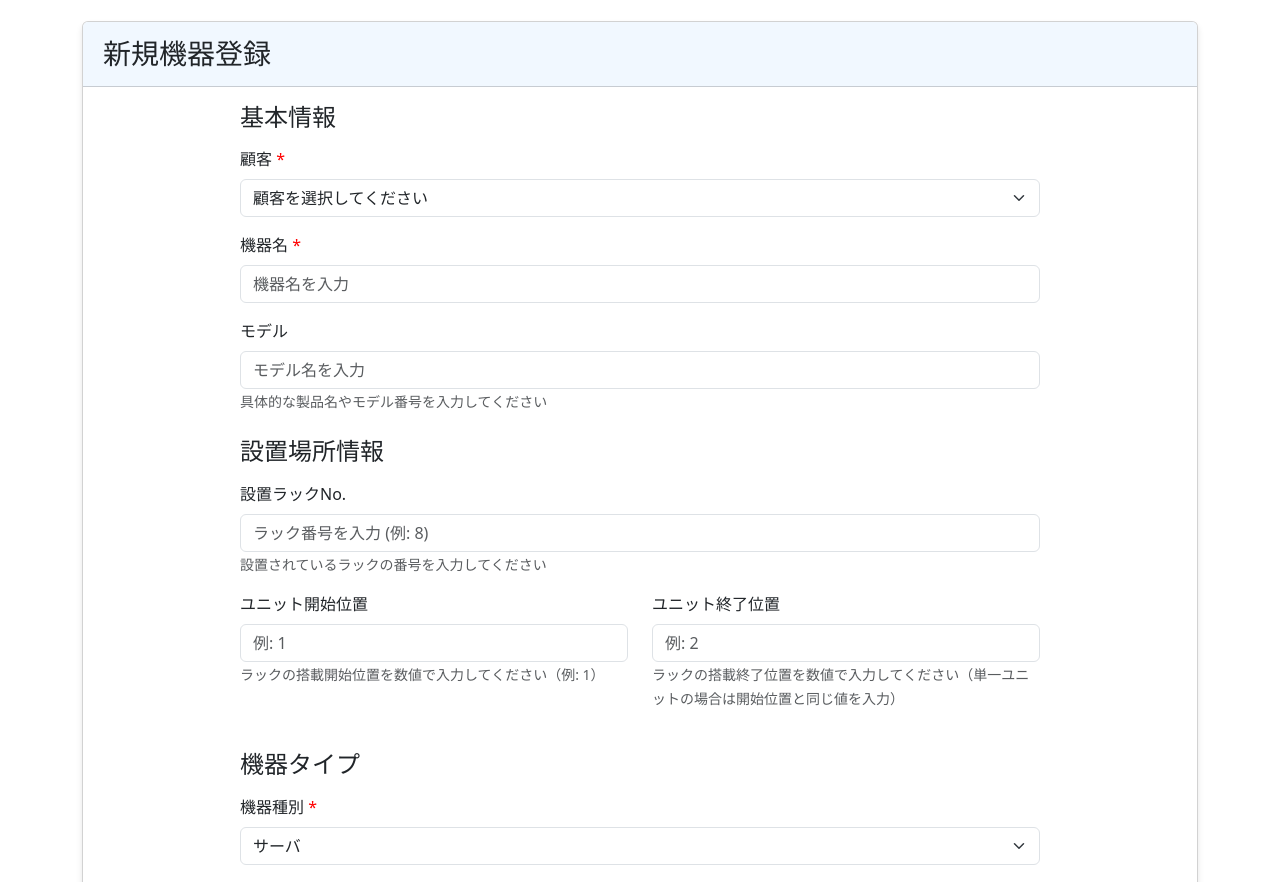
DeviceForm Component › displays API error message when submission fails
This screenshot has width=1280, height=882.
Step 1. Type "テストサーバー" into the field labelled "機器名" → (640, 284), box [240,265,1040,303]
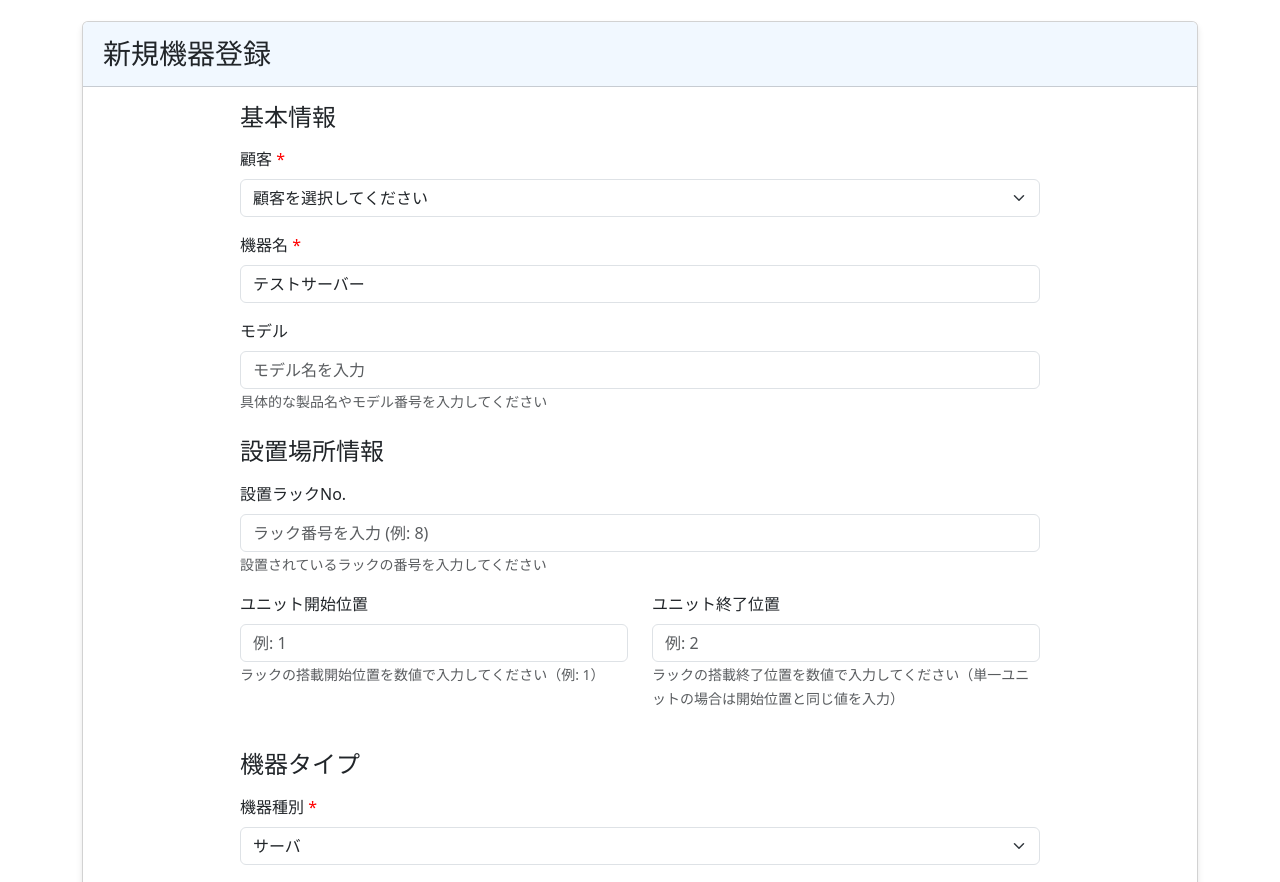
Step 2. Select "テスト株式会社A" in the dropdown labelled "顧客" → (640, 198), box [240,179,1040,217]
(page scrolled)
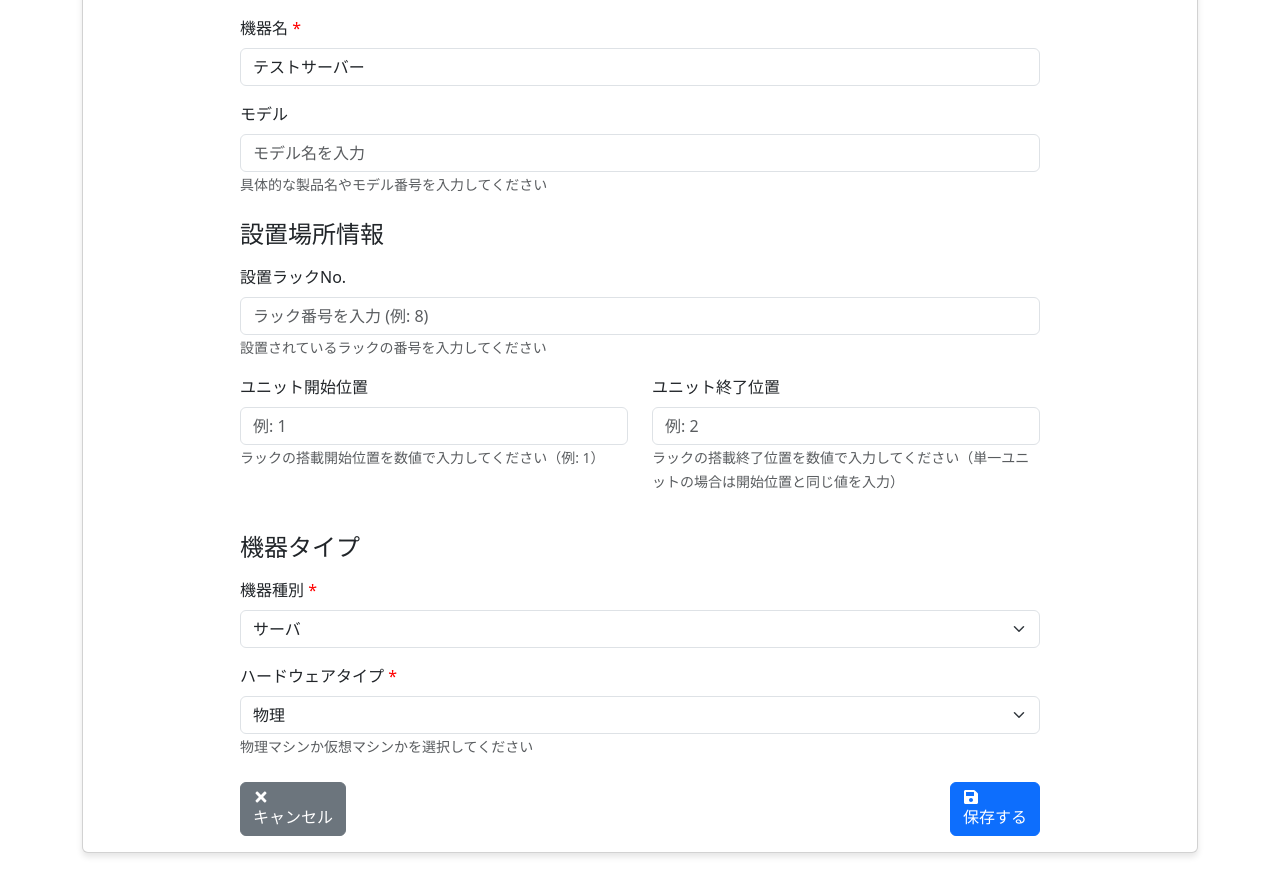
Step 3. Click the button "保存する" → (995, 809), box [950,782,1040,836]
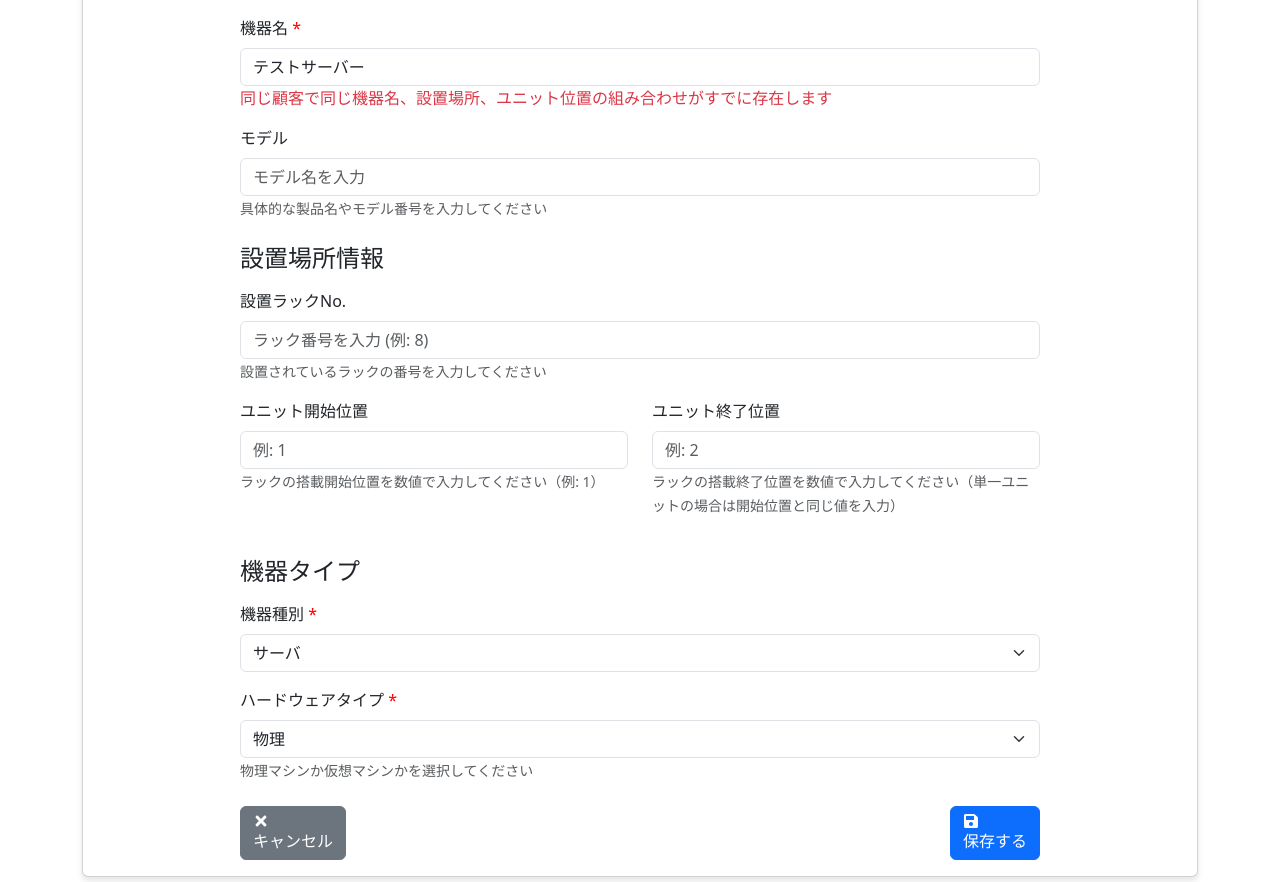
Result: the text "同じ顧客で同じ機器名、設置場所、ユニット位置の組み合わせがすでに存在します" is shown at [240,87,832,109]
